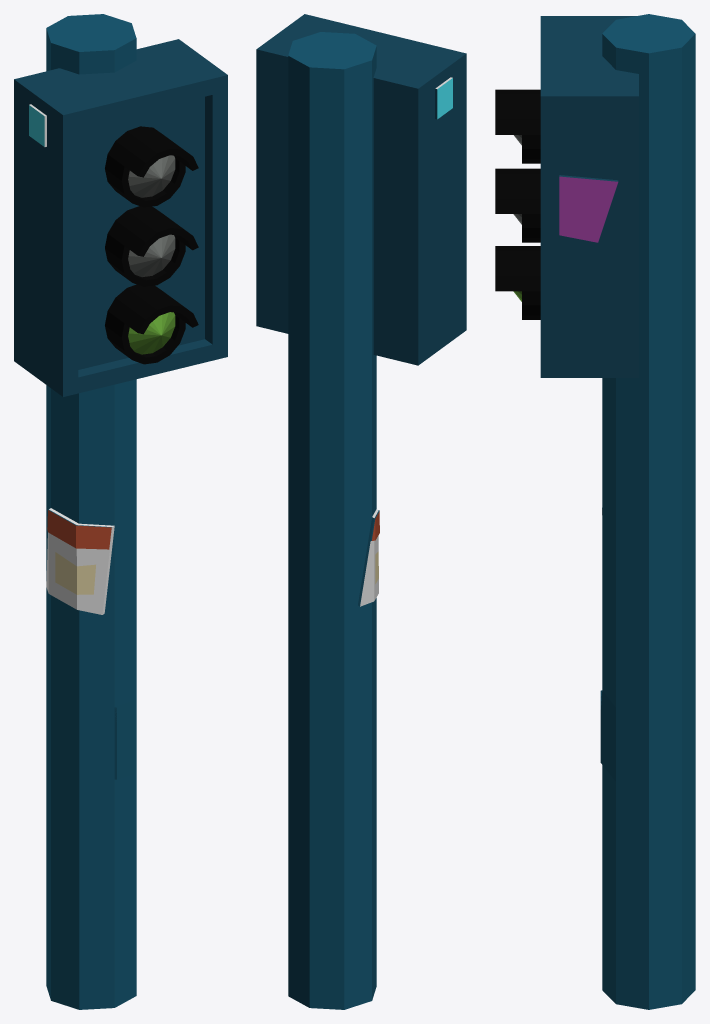
Rendered from semaforoVerde2.fbx.
The picture shows the model from 3 angles, left to right: view 1: azimuth 30°, elevation 25°; view 2: azimuth 150°, elevation 25°; view 3: azimuth 270°, elevation 25°; orthographic projection.
Visible parts, largest first — view 1: semaforo; view 2: semaforo; view 3: semaforo.
Boxes of the visible parts, box(x1,y1,x2,y2) form: semaforo: box(14, 14, 227, 1009); semaforo: box(256, 14, 466, 1009); semaforo: box(495, 14, 695, 1009).
Bounding box in the file's own units: 18.35 × 98.69 × 18.7.
